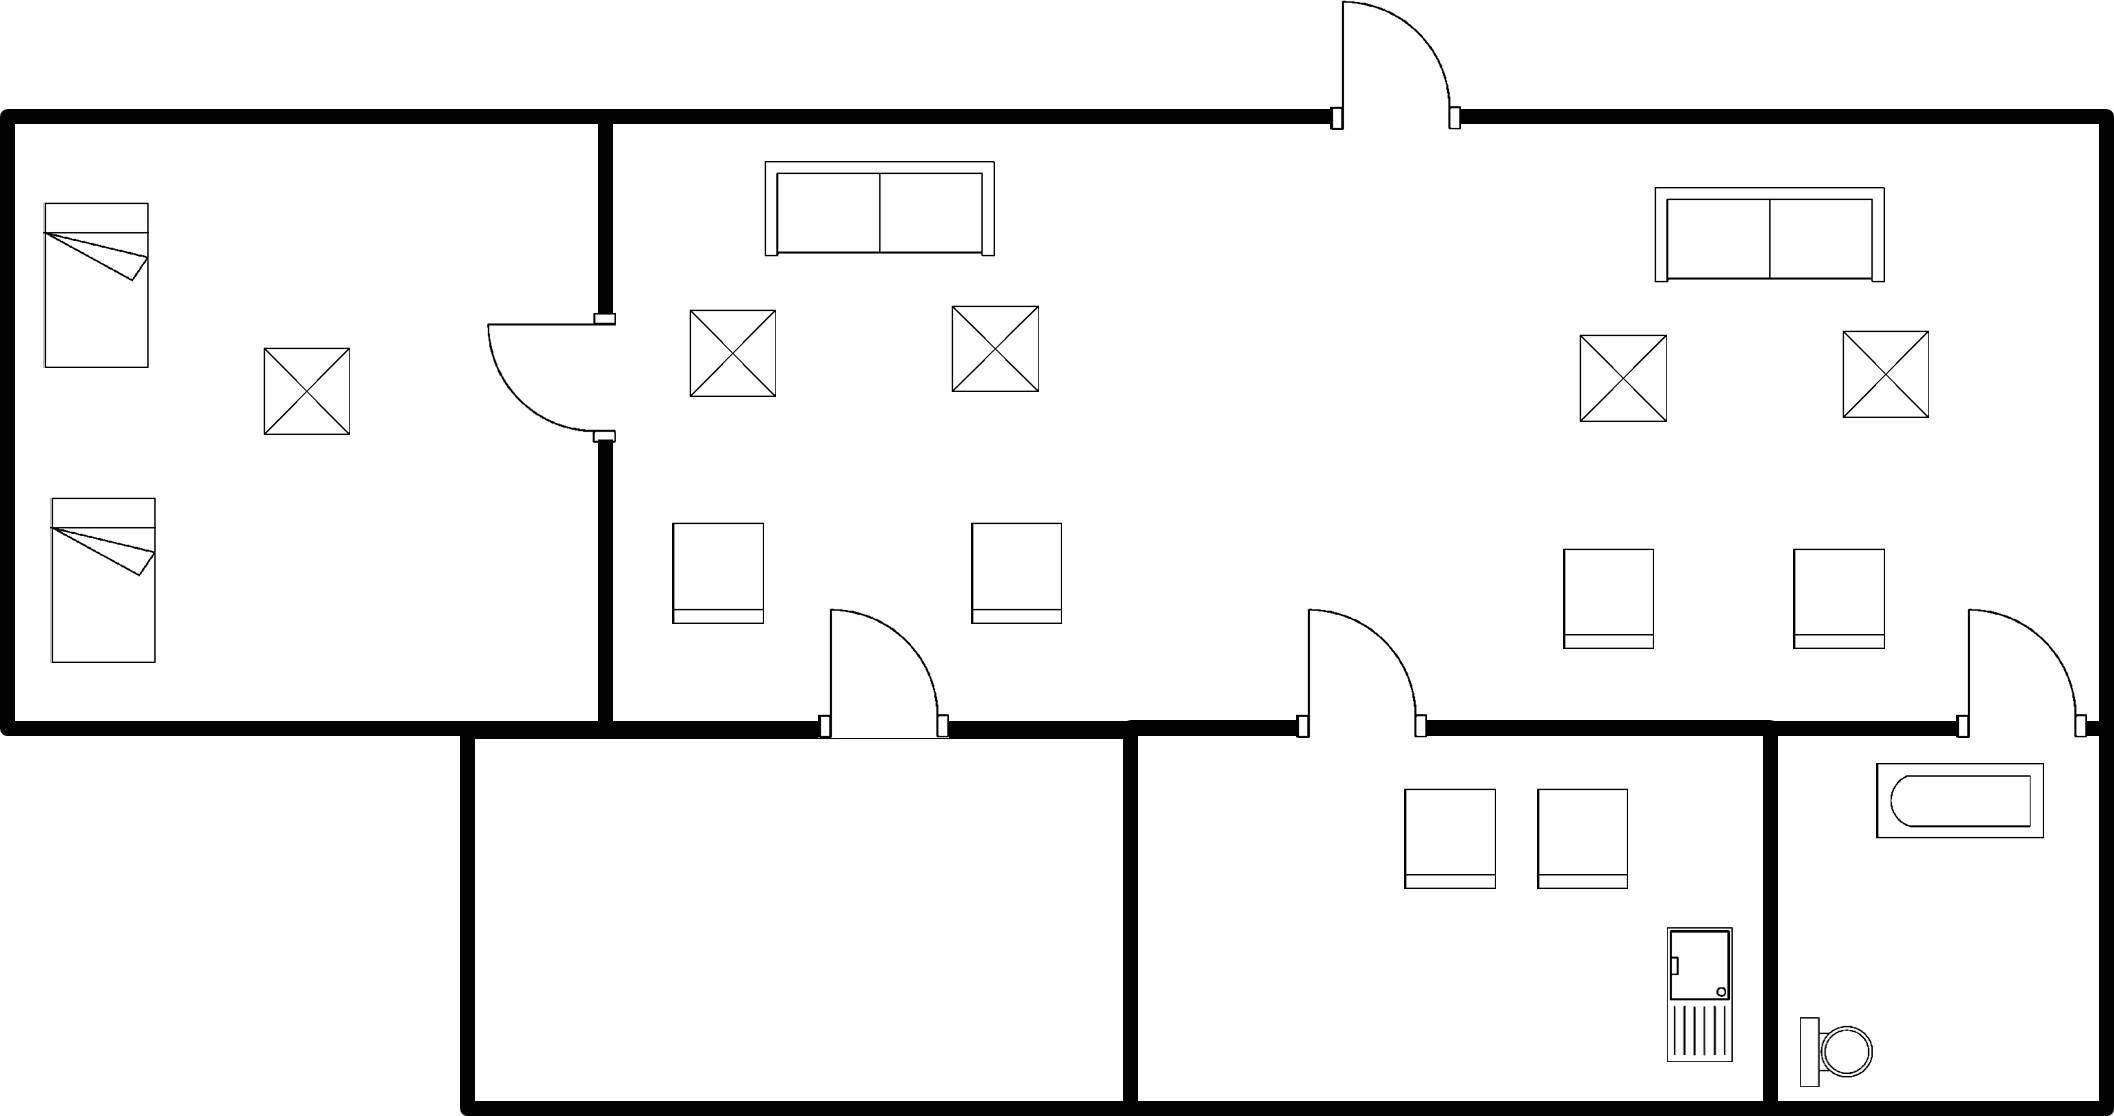bed: (36, 488, 169, 676), (31, 194, 159, 382)
coffee_table: (1565, 323, 1678, 437), (942, 290, 1053, 406), (1830, 323, 1942, 432), (680, 300, 784, 412), (256, 337, 360, 447)
large_sink: (1792, 1008, 1877, 1096)
large_sofa: (1644, 174, 1900, 294), (757, 150, 1006, 270)
sink: (1657, 918, 1747, 1076)
small_sofa: (1548, 535, 1666, 659), (660, 514, 774, 638), (1528, 781, 1641, 903), (1394, 781, 1509, 900), (960, 514, 1072, 634), (1783, 541, 1895, 659)
tub: (1863, 753, 2054, 853)
